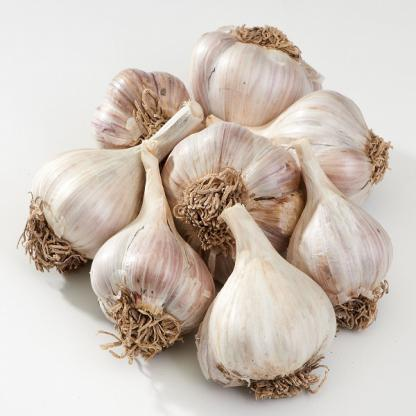garlic: (190, 262, 340, 396), (160, 120, 307, 242), (86, 206, 205, 348), (263, 73, 394, 190), (282, 167, 387, 308), (16, 132, 142, 245), (182, 20, 314, 114), (92, 55, 188, 142)
